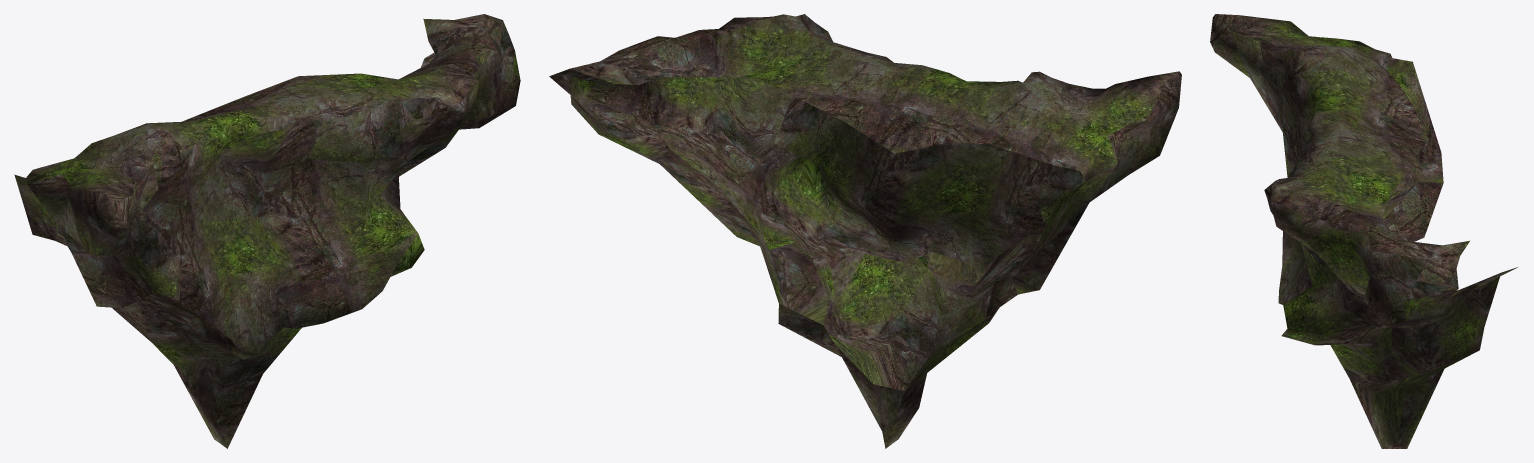
Rendered from S_Rock_Green026.FBX.
3 views of the same model, side by side, from view 1: azimuth 30°, elevation 25°; view 2: azimuth 150°, elevation 25°; view 3: azimuth 270°, elevation 25° (orthographic). The views are drawn at different scales.
Parts seen in each view (by area): view 1: S_Rock_Green026; view 2: S_Rock_Green026; view 3: S_Rock_Green026.
Part boxes in pixels (bbox=[...]): S_Rock_Green026: bbox=[14, 14, 520, 448]; S_Rock_Green026: bbox=[549, 14, 1181, 448]; S_Rock_Green026: bbox=[1210, 14, 1517, 448].
Size of the model in its own units: 1607 by 858 by 1076.
